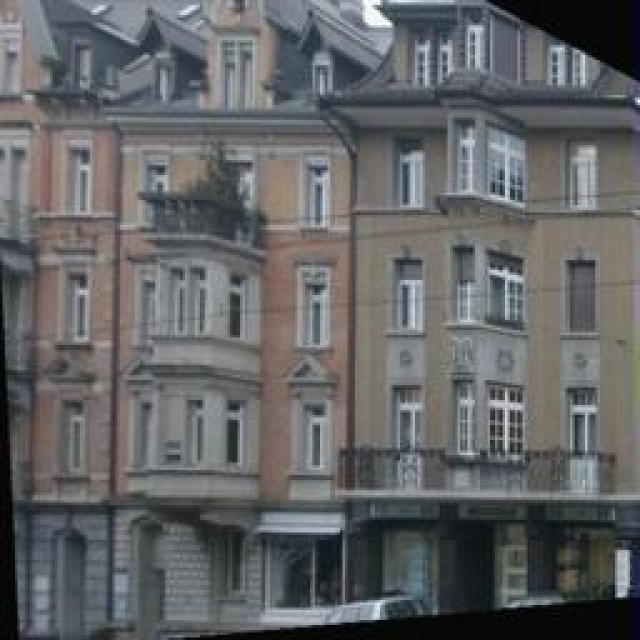building: (0, 0, 352, 640), (360, 0, 640, 640)
